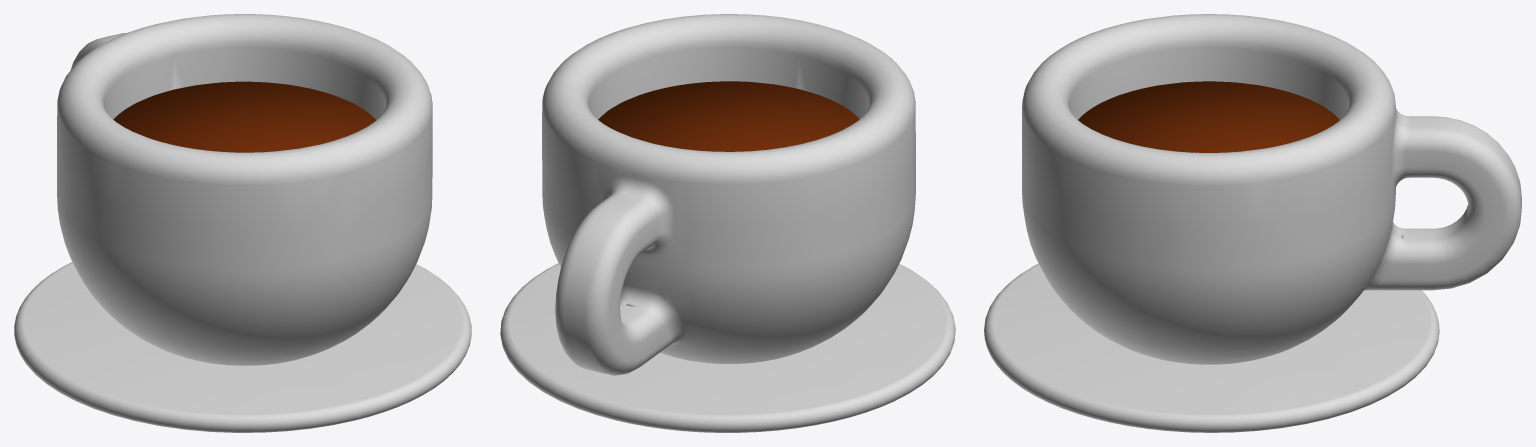
File: cafe.glb
3 views of the same model, side by side, from view 1: azimuth 30°, elevation 25°; view 2: azimuth 150°, elevation 25°; view 3: azimuth 270°, elevation 25° (orthographic).
Parts seen in each view (by area): view 1: Body25; view 2: Body25; view 3: Body25.
Boxes of the visible parts, x1,y1,x2,y2 form: Body25: (14,14,471,432); Body25: (500,14,955,432); Body25: (984,14,1521,432).
Size of the model in its own units: 0.047 by 0.029 by 0.0555.
